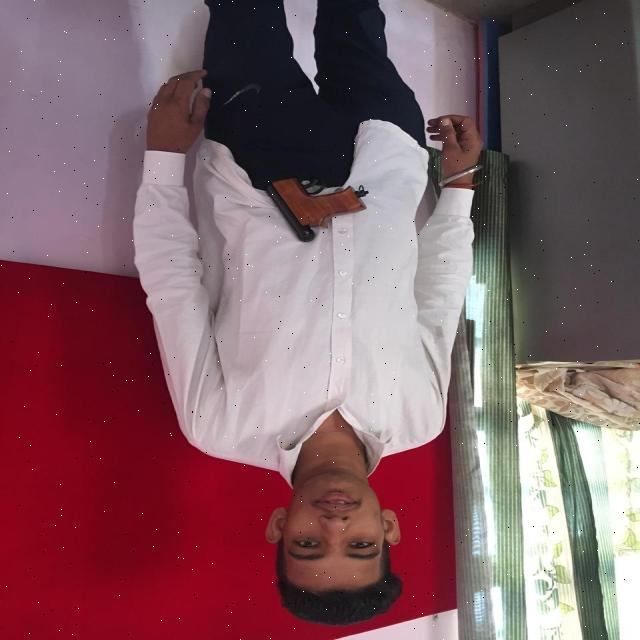gun: (238, 149, 371, 248)
